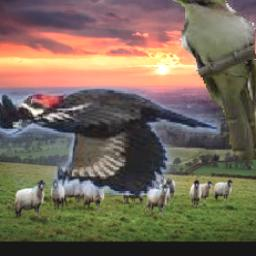Cuckoo: (168, 0, 256, 164)
Woodpecker: (0, 88, 219, 196)
